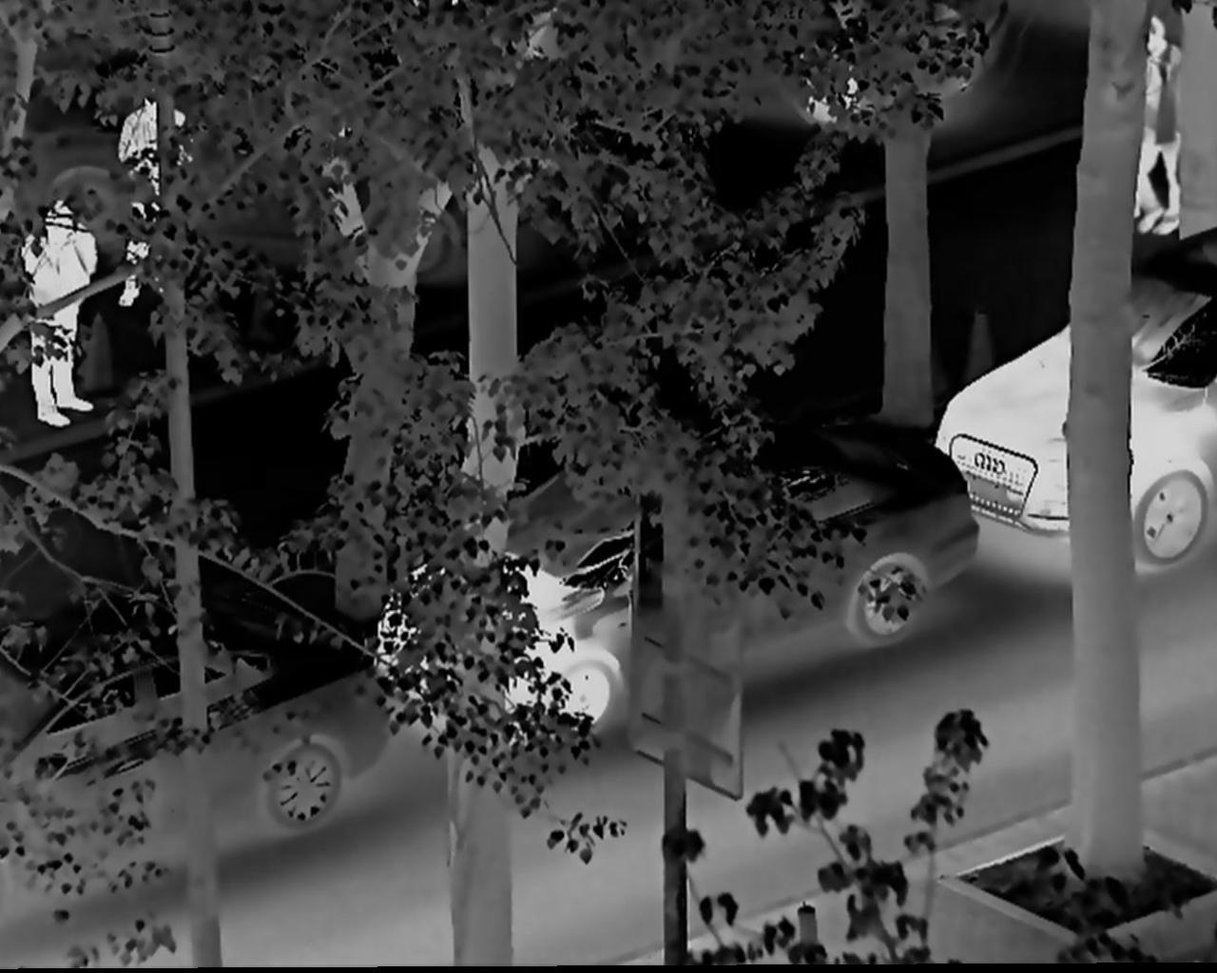person: (21, 188, 101, 425), (117, 96, 205, 309), (1133, 19, 1193, 238)
